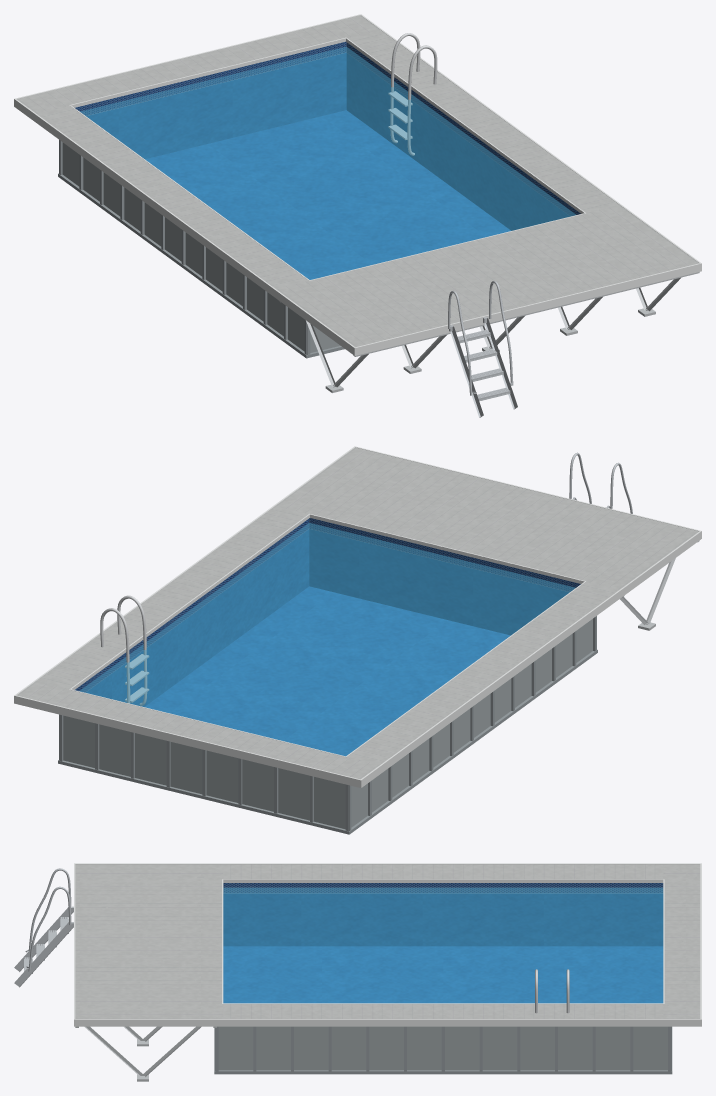
Rendered from kayak-pool-16x24-gray-end-ag-nofence.9468009586.glb.
3 renders of one model, top to bottom at view 1: azimuth 30°, elevation 25°; view 2: azimuth 150°, elevation 25°; view 3: azimuth 270°, elevation 25°, orthographic. The views are drawn at different scales.
Parts seen in each view (by area): view 1: water, deck, liner_floor, liner_wall, fascia, wall, upright, stud, ladder, steel; view 2: water, deck, liner_floor, liner_wall, wall, fascia, upright, steel, stud, ladder; view 3: water, deck, liner_wall, liner_floor, wall, fascia, upright, ladder, stud.
Boxes of the visible parts, <box> form: water: <box>80,46,575,279</box>; deck: <box>17,15,698,347</box>; liner_floor: <box>145,110,510,279</box>; liner_wall: <box>75,41,580,230</box>; fascia: <box>14,14,701,355</box>; wall: <box>62,142,340,352</box>; upright: <box>58,140,344,358</box>; stud: <box>278,272,699,392</box>; ladder: <box>448,281,517,417</box>; steel: <box>388,33,437,155</box>; water: <box>80,523,575,756</box>; deck: <box>17,447,698,779</box>; liner_floor: <box>145,586,510,756</box>; liner_wall: <box>75,518,580,706</box>; wall: <box>63,619,592,829</box>; fascia: <box>14,446,701,787</box>; upright: <box>58,616,597,834</box>; steel: <box>100,595,149,705</box>; stud: <box>620,541,699,630</box>; ladder: <box>569,452,632,513</box>; water: <box>223,887,663,1003</box>; deck: <box>75,864,700,1018</box>; liner_wall: <box>223,883,663,946</box>; liner_floor: <box>223,946,663,1003</box>; wall: <box>218,1026,667,1070</box>; fascia: <box>74,863,701,1026</box>; upright: <box>214,1026,672,1074</box>; ladder: <box>14,868,73,987</box>; stud: <box>75,1026,216,1081</box>.
Bounding box in the file's own units: 6.1 × 1.9 × 11.35.
Materials: 10 (3 with a texture image).
